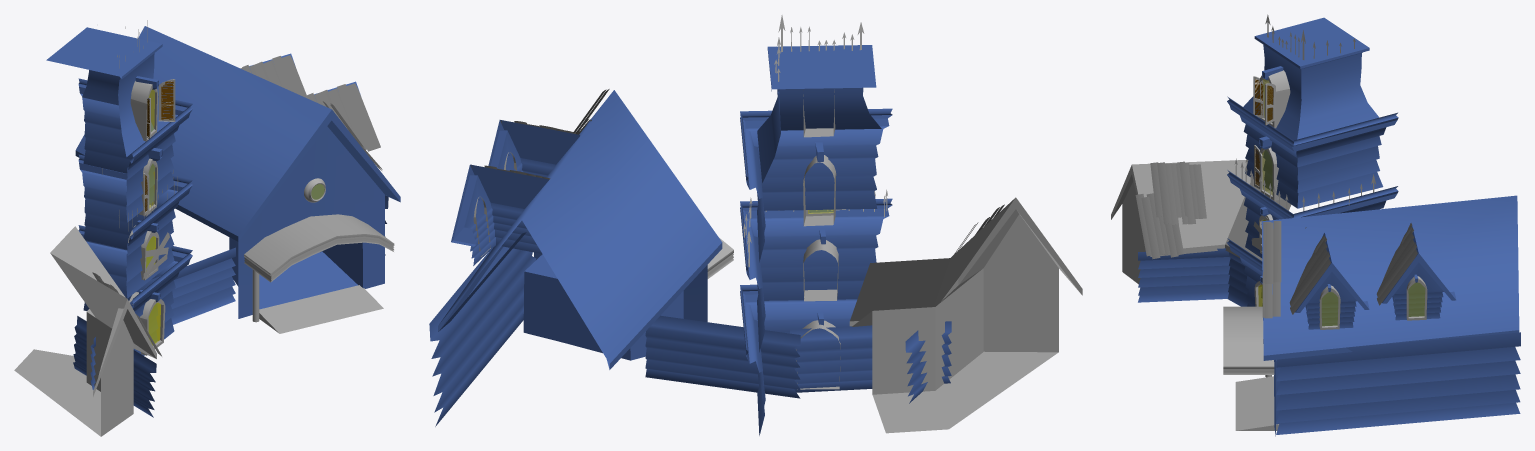
File: Fbx house eslect.fbx
The picture shows the model from 3 angles, left to right: view 1: azimuth 30°, elevation 25°; view 2: azimuth 150°, elevation 25°; view 3: azimuth 270°, elevation 25°; orthographic projection. The views are drawn at different scales.
Visible parts, largest first — view 1: pCube9, pPlane39, pCube39, pCube43, pCylinder1, pCube59, pCube56, pPlane17, window_cover1, pCube58, pPlane18, pCube61 (+5 smaller); view 2: pPlane39, pCube9, pCube39, pPlane36, pCube64, pCube50, pPlane33, pCube58; view 3: pPlane39, pCube9, pPlane36, pCube39, pCube43, pCube50, pCube64, pCylinder1, pCube59, pPlane33, pCube58, pPlane40 (+9 smaller).
Boxes of the visible parts, x1=… form: pCube9: x1=75, y1=26, x2=400, y2=318; pPlane39: x1=46, y1=27, x2=235, y2=417; pCube39: x1=14, y1=226, x2=156, y2=436; pCube43: x1=244, y1=214, x2=394, y2=282; pCylinder1: x1=259, y1=285, x2=383, y2=333; pCube59: x1=130, y1=81, x2=157, y2=141; pCube56: x1=129, y1=292, x2=163, y2=355; pPlane17: x1=346, y1=83, x2=380, y2=151; window_cover1: x1=158, y1=79, x2=175, y2=121; pCube58: x1=138, y1=158, x2=157, y2=216; pPlane18: x1=337, y1=84, x2=370, y2=149; pCube61: x1=142, y1=299, x2=165, y2=355; pPlane39: x1=645, y1=45, x2=951, y2=435; pCube9: x1=438, y1=90, x2=722, y2=369; pCube39: x1=849, y1=197, x2=1082, y2=433; pPlane36: x1=429, y1=246, x2=536, y2=426; pCube64: x1=451, y1=164, x2=548, y2=265; pCube50: x1=488, y1=120, x2=579, y2=177; pPlane33: x1=743, y1=15, x2=887, y2=267; pCube58: x1=803, y1=155, x2=836, y2=226; pPlane39: x1=1138, y1=17, x2=1398, y2=306; pCube9: x1=1261, y1=195, x2=1519, y2=436; pPlane36: x1=1276, y1=332, x2=1520, y2=434; pCube39: x1=1111, y1=160, x2=1291, y2=284; pCube43: x1=1223, y1=306, x2=1274, y2=374; pCube50: x1=1295, y1=233, x2=1369, y2=329; pCube64: x1=1382, y1=226, x2=1456, y2=320; pCylinder1: x1=1235, y1=376, x2=1278, y2=430; pCube59: x1=1259, y1=70, x2=1290, y2=128; pPlane33: x1=1234, y1=14, x2=1375, y2=211; pCube58: x1=1259, y1=147, x2=1282, y2=200; pPlane40: x1=1273, y1=221, x2=1281, y2=282.
Size of the model in its own units: 0.1681 by 0.1337 by 0.1598.
